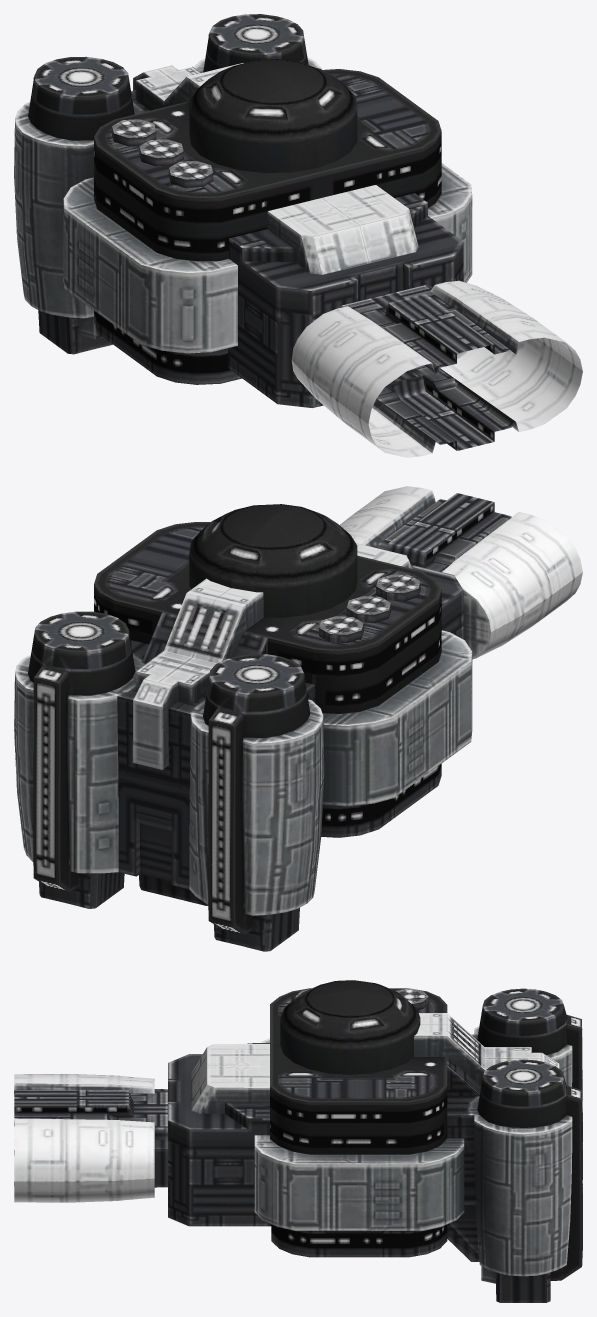
Rendered from tgef_01_orbital_station_refinery_section.obj.
The picture shows the model from 3 angles, top to bottom: view 1: azimuth 30°, elevation 25°; view 2: azimuth 150°, elevation 25°; view 3: azimuth 270°, elevation 25°; orthographic projection. The views are drawn at different scales.
Parts seen in each view (by area): view 1: humanoid_01_orbital_station_refinery_section|g_body|g_bodyShape; view 2: humanoid_01_orbital_station_refinery_section|g_body|g_bodyShape; view 3: humanoid_01_orbital_station_refinery_section|g_body|g_bodyShape.
Part boxes in pixels (bbox=[...]): humanoid_01_orbital_station_refinery_section|g_body|g_bodyShape: bbox=[14, 14, 582, 457]; humanoid_01_orbital_station_refinery_section|g_body|g_bodyShape: bbox=[14, 486, 582, 951]; humanoid_01_orbital_station_refinery_section|g_body|g_bodyShape: bbox=[14, 980, 582, 1302].
Size of the model in its own units: 6.54e-05 by 6.07e-05 by 0.000118.
